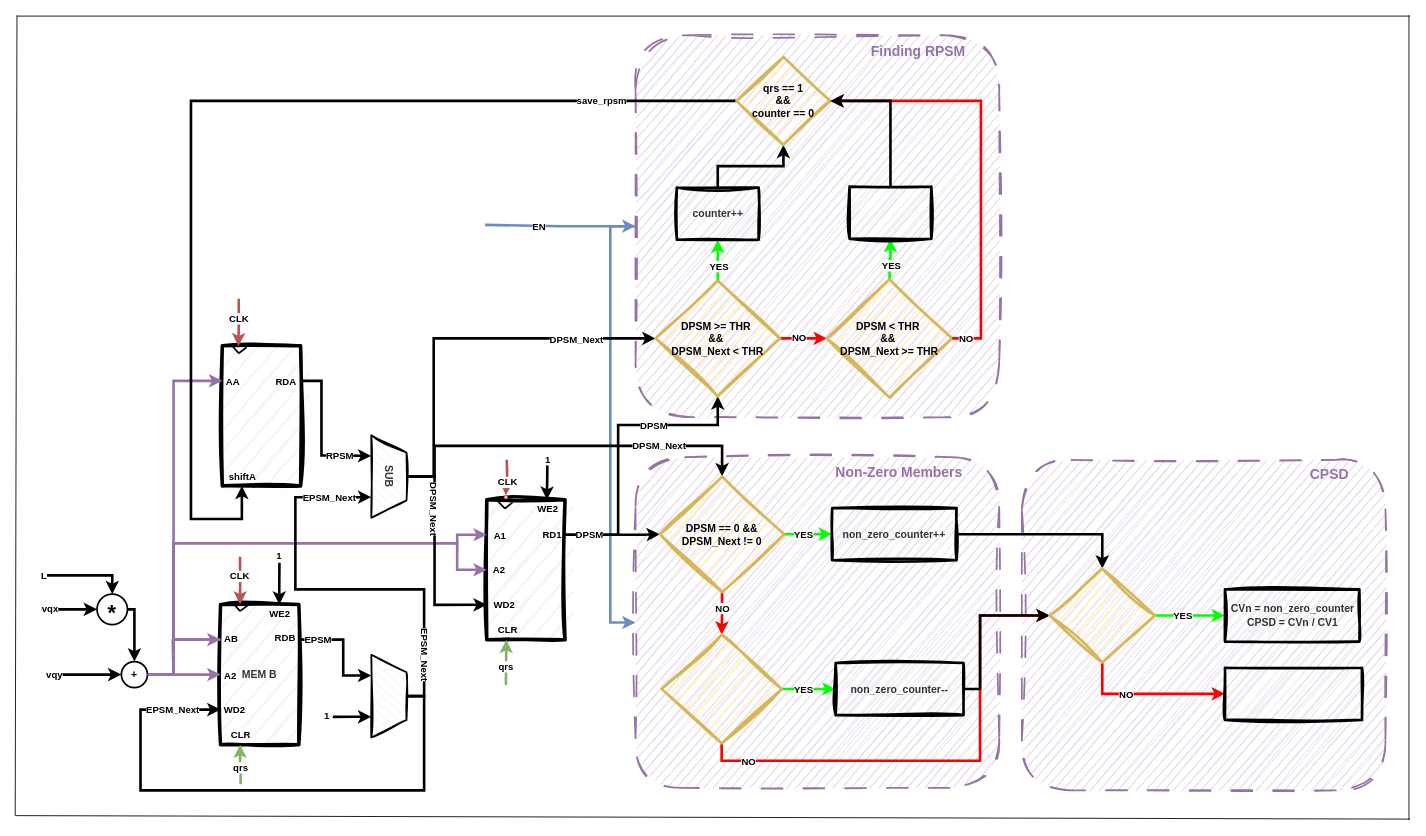
This 1426x836 diagram has some shape labels left out. Each missing label, with the centre of its shape:
"ADDER" belongs at (x=388, y=696).
"counter--" belongs at (x=890, y=212).
"CV1 = non_zero_counter" belongs at (x=1293, y=693).
"DPSM != 0 && DPSM_Next == 0" belongs at (x=721, y=688).
"MEM A" belongs at (x=261, y=415).
"MEM DPSM" belongs at (x=525, y=569).
"qrs == 1 && CV1_flag == 0" belongs at (x=1102, y=615).
